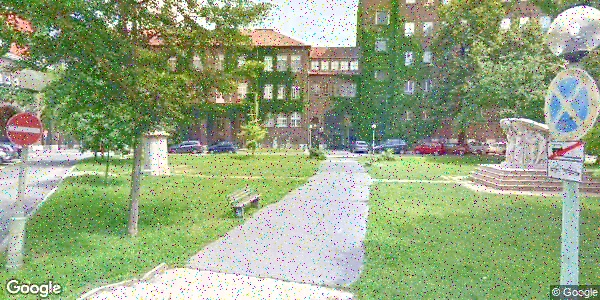d_no_entry: (3, 111, 43, 149)
e_no_stop_park: (543, 68, 599, 139)
